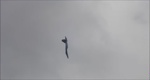maybay_muctieu: (62, 34, 72, 58)
